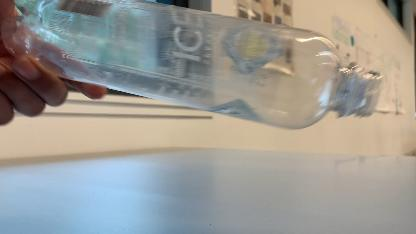Plastic Bottle: (21, 0, 395, 140)
